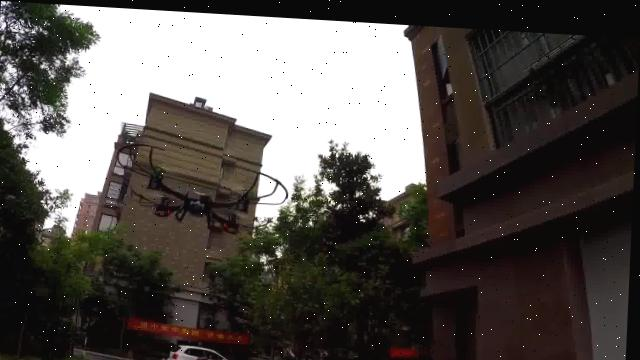drone: (109, 148, 291, 233)
